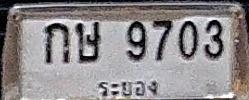0: (178, 20, 198, 59)
3: (204, 19, 224, 59)
7: (153, 19, 172, 60)
9: (126, 20, 146, 60)
A01: (44, 22, 70, 64)
A39: (75, 21, 101, 63)
RYG: (91, 75, 160, 100)
